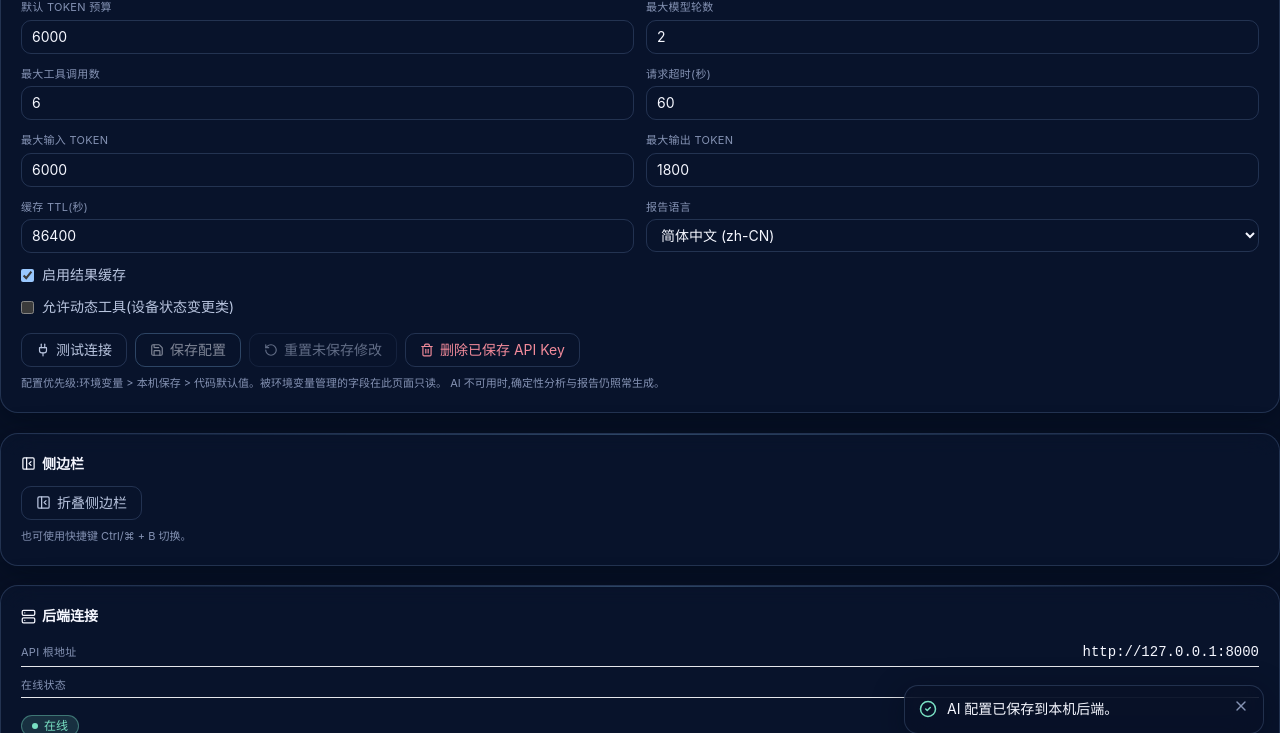
it: M6B — AI 配置表单 › 删除本地 Key 需二次确认
(page scrolled)
Click the button with test id "ai-settings-delete-key" at coordinates (492, 350), box [405, 333, 580, 367]
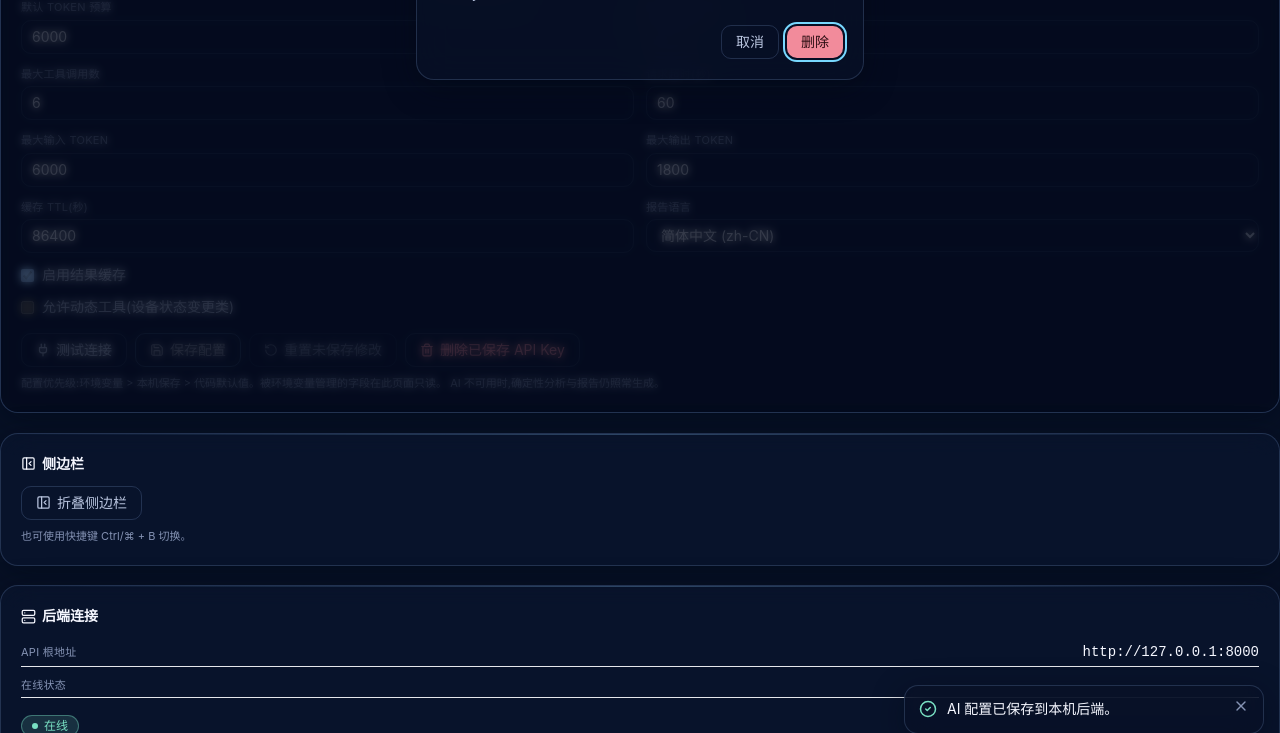
Click the button "删除" at coordinates (815, 42), box [787, 26, 843, 58]
(page scrolled)
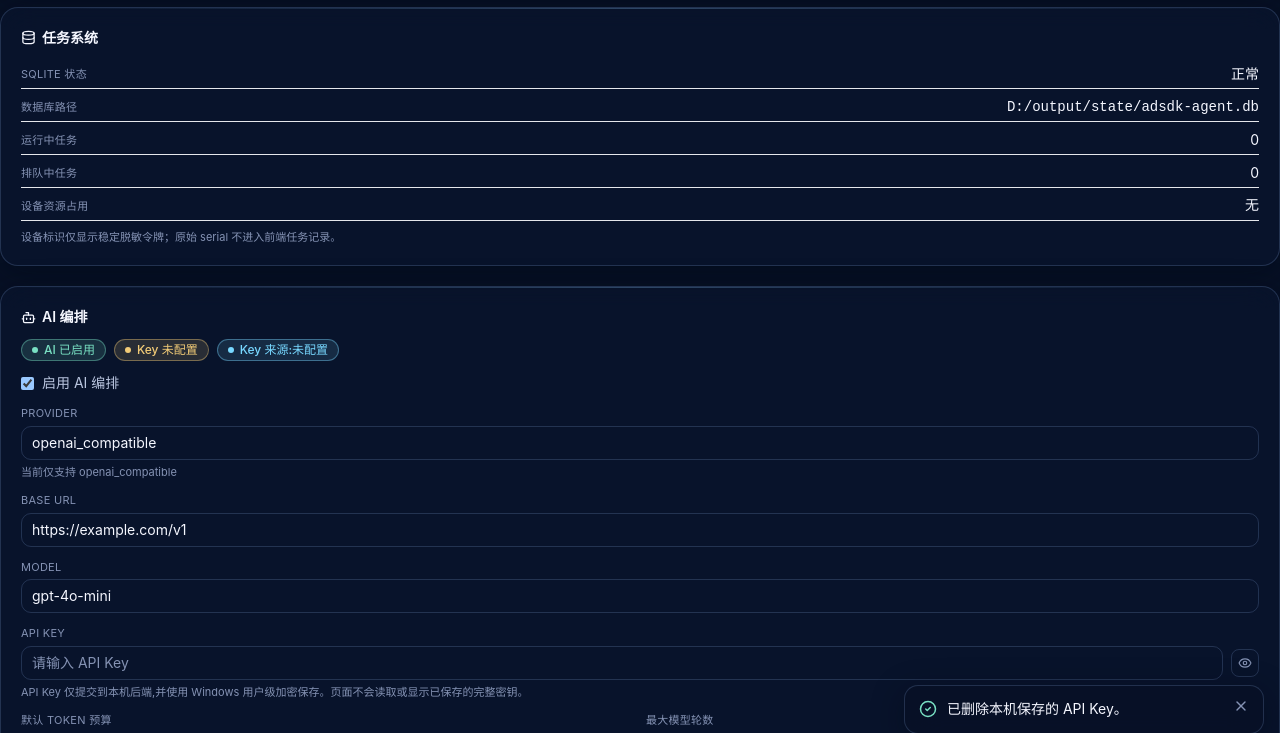
Check: the text "Key 未配置" is shown, box [114, 339, 209, 361]
